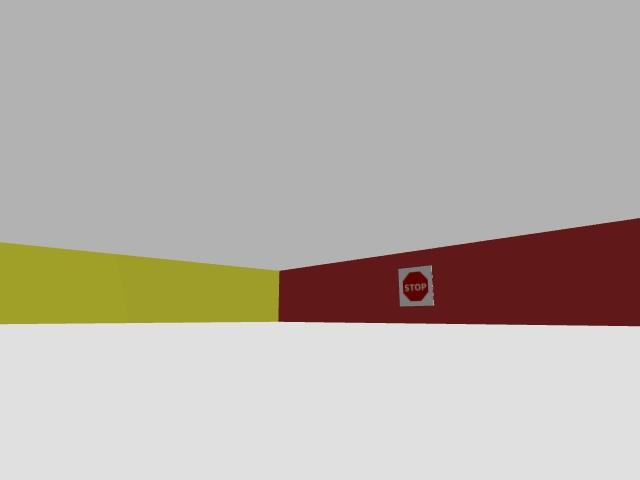stop: (399, 266, 433, 305)
